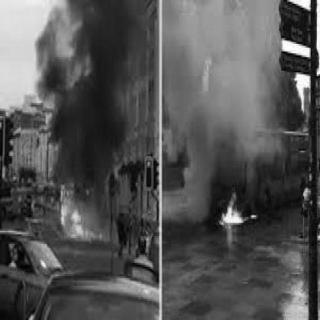Fire: (55, 176, 99, 236), (222, 190, 248, 226)
Smoke: (31, 0, 140, 168)
